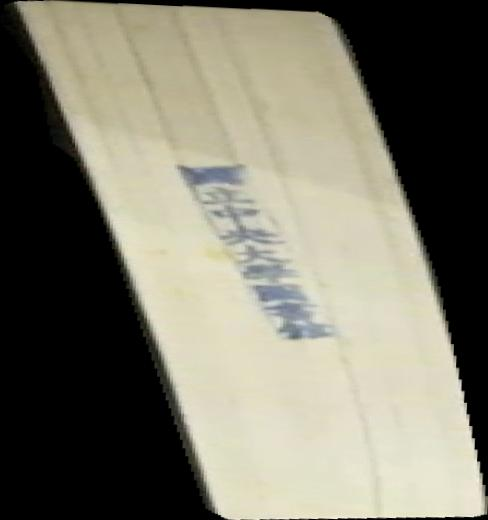backward: (1, 1, 488, 520)
